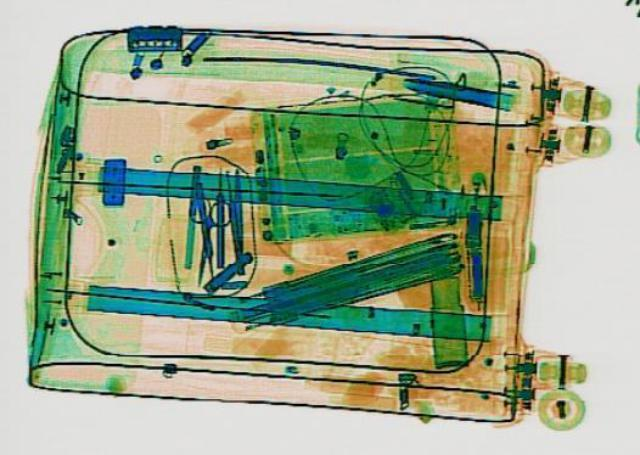Scissors: (175, 195, 231, 284)
